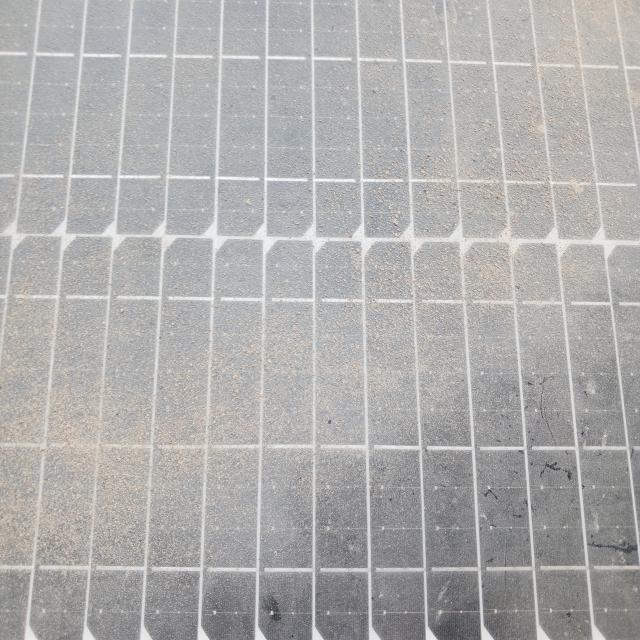Anomaly Solar Panel: (0, 39, 639, 634)
Surface Contaminant: (0, 39, 639, 634)
